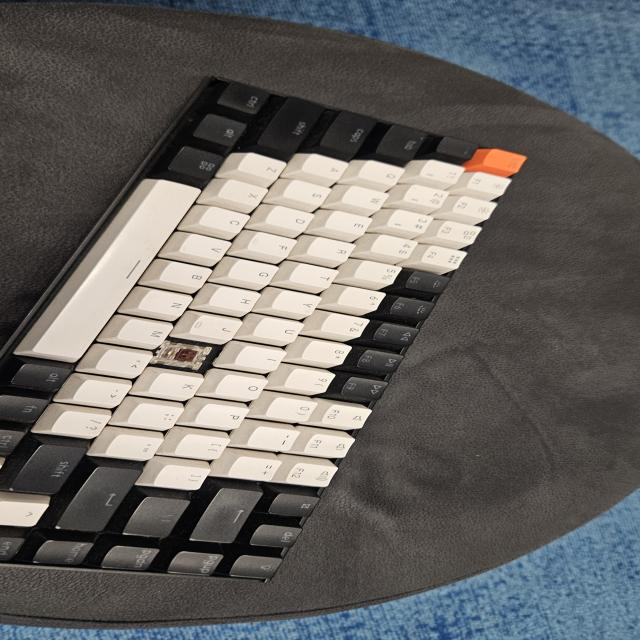C: (164, 340, 207, 368)
